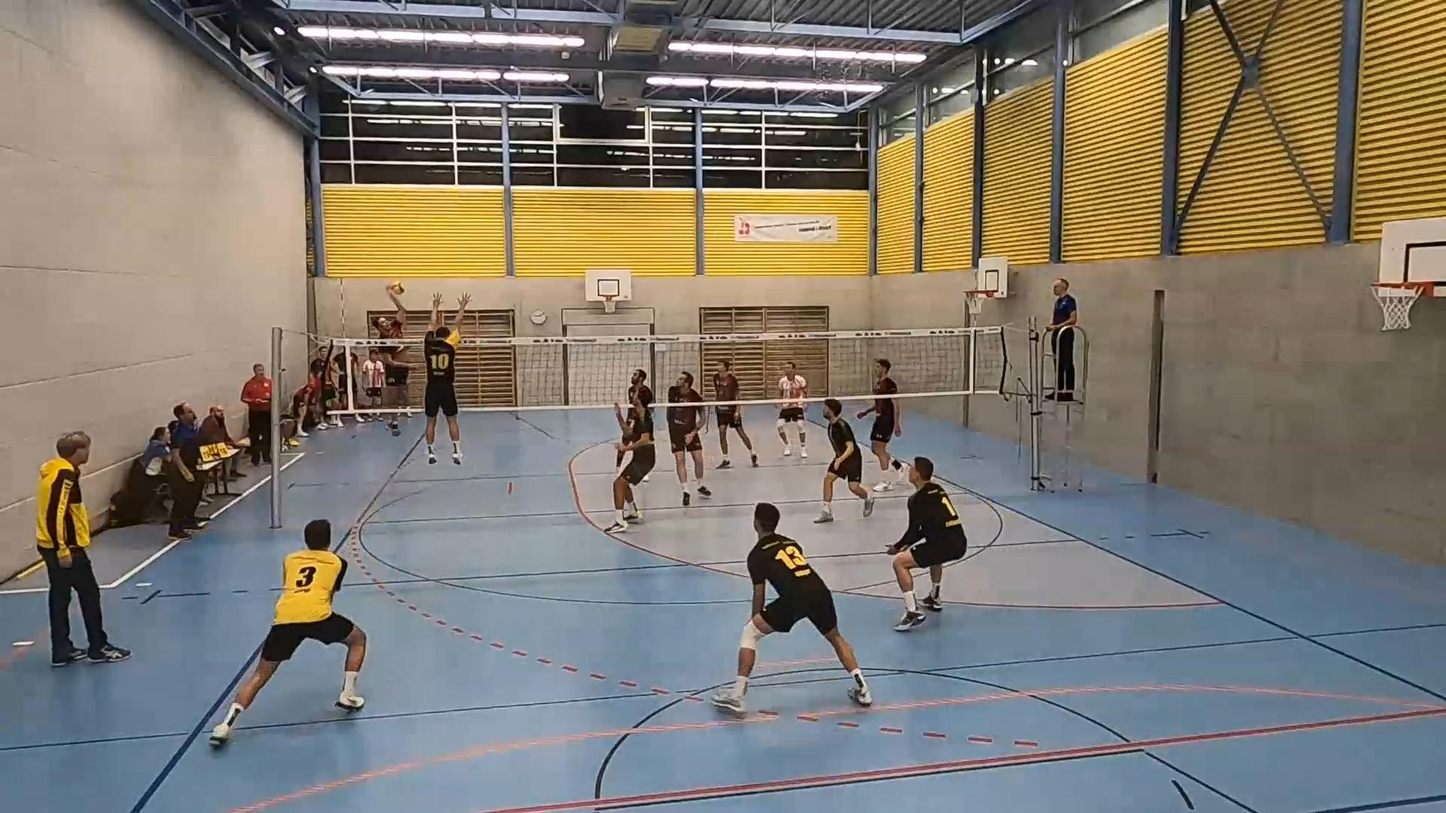Attack: (368, 277, 414, 438)
Block: (422, 295, 464, 469)
Player: (210, 519, 366, 745), (712, 503, 871, 713), (888, 457, 966, 631), (815, 398, 874, 522), (607, 387, 655, 532), (857, 358, 907, 492), (667, 371, 711, 506), (776, 362, 807, 458), (615, 368, 654, 443), (715, 404, 758, 468)
ball: (382, 279, 406, 300)
